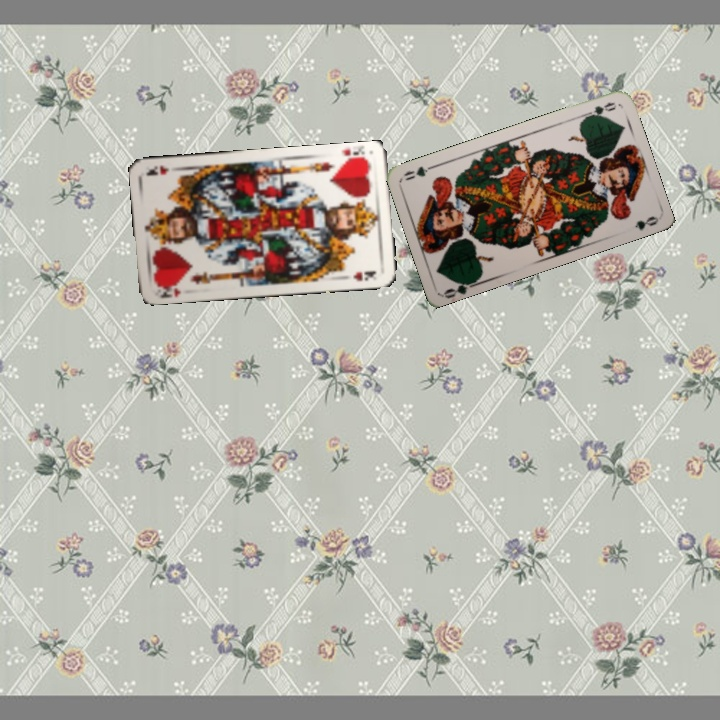GO: (440, 276, 480, 300), (579, 98, 619, 122)
HK: (336, 144, 371, 166), (152, 279, 183, 300)
